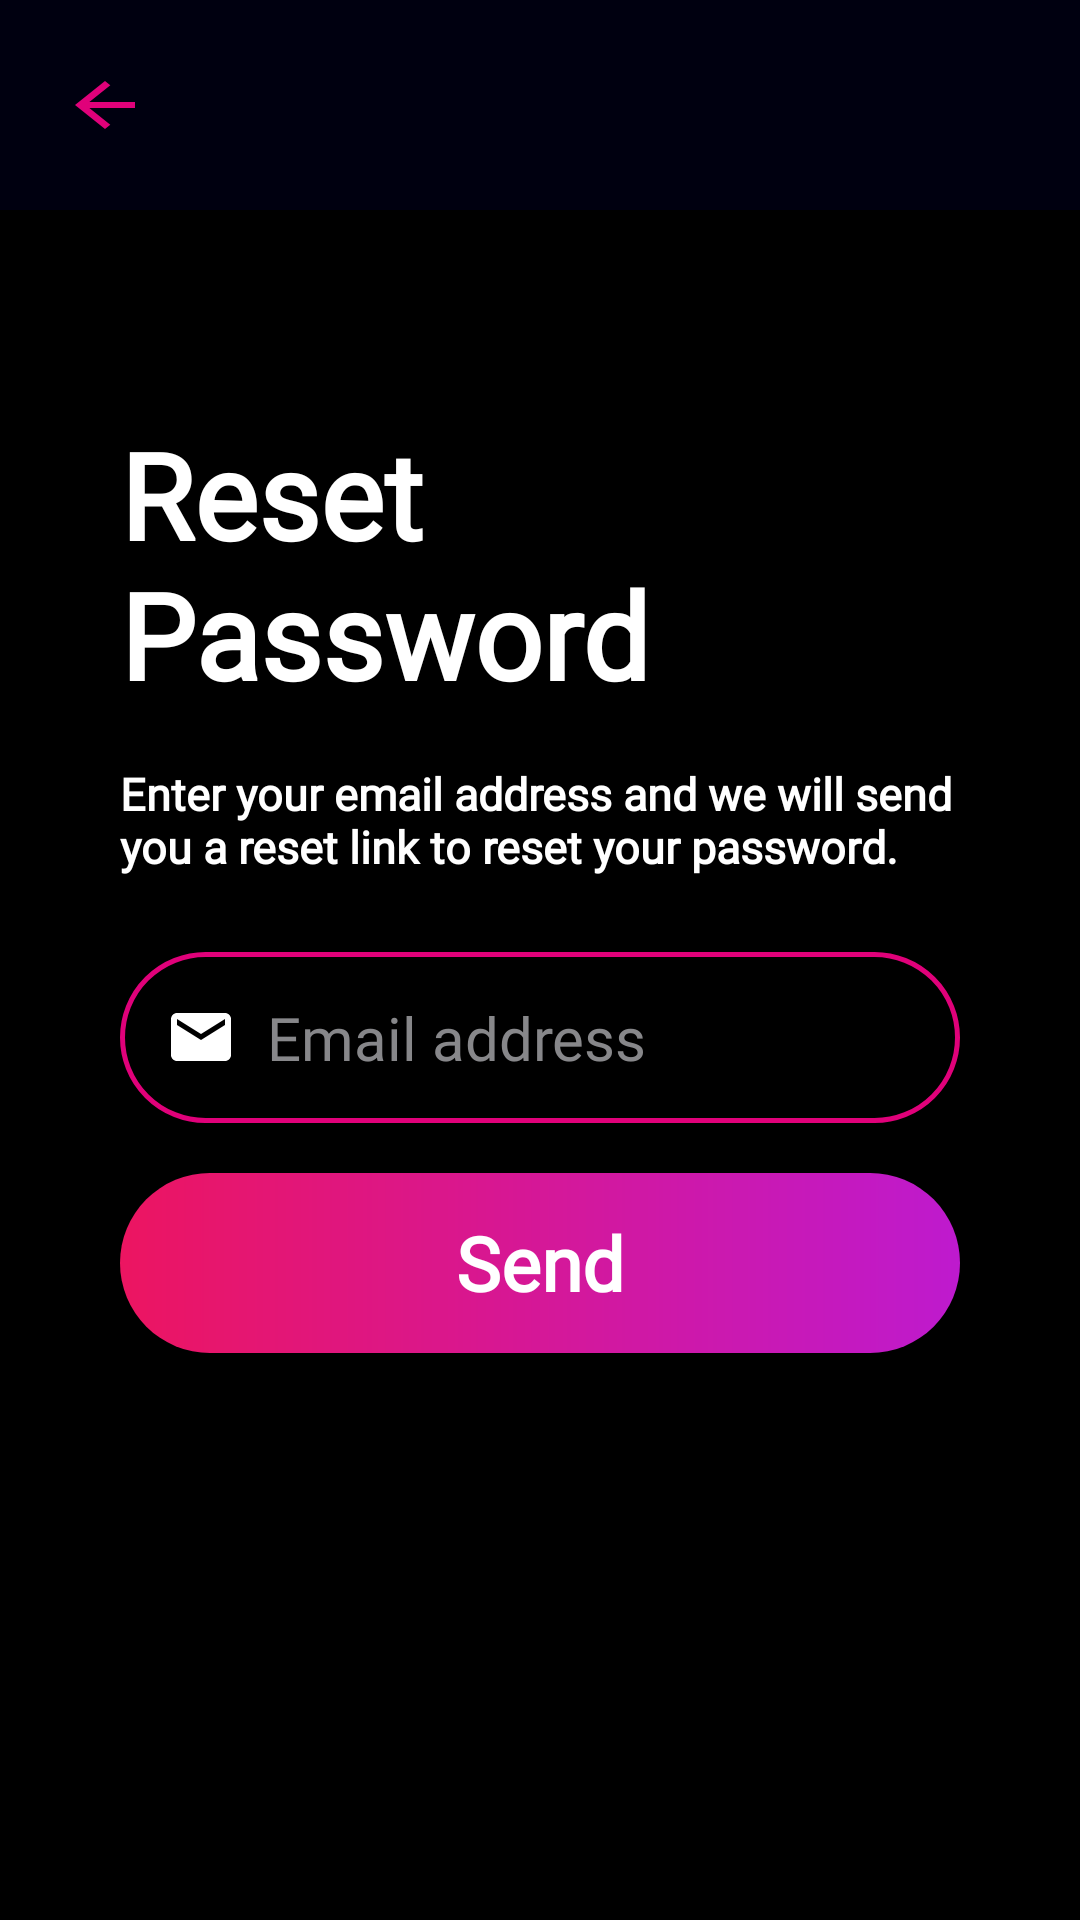

Point at icon controls on the screen. Image size 1080×1920, points as (x,y).
arrow back: (105,105)
